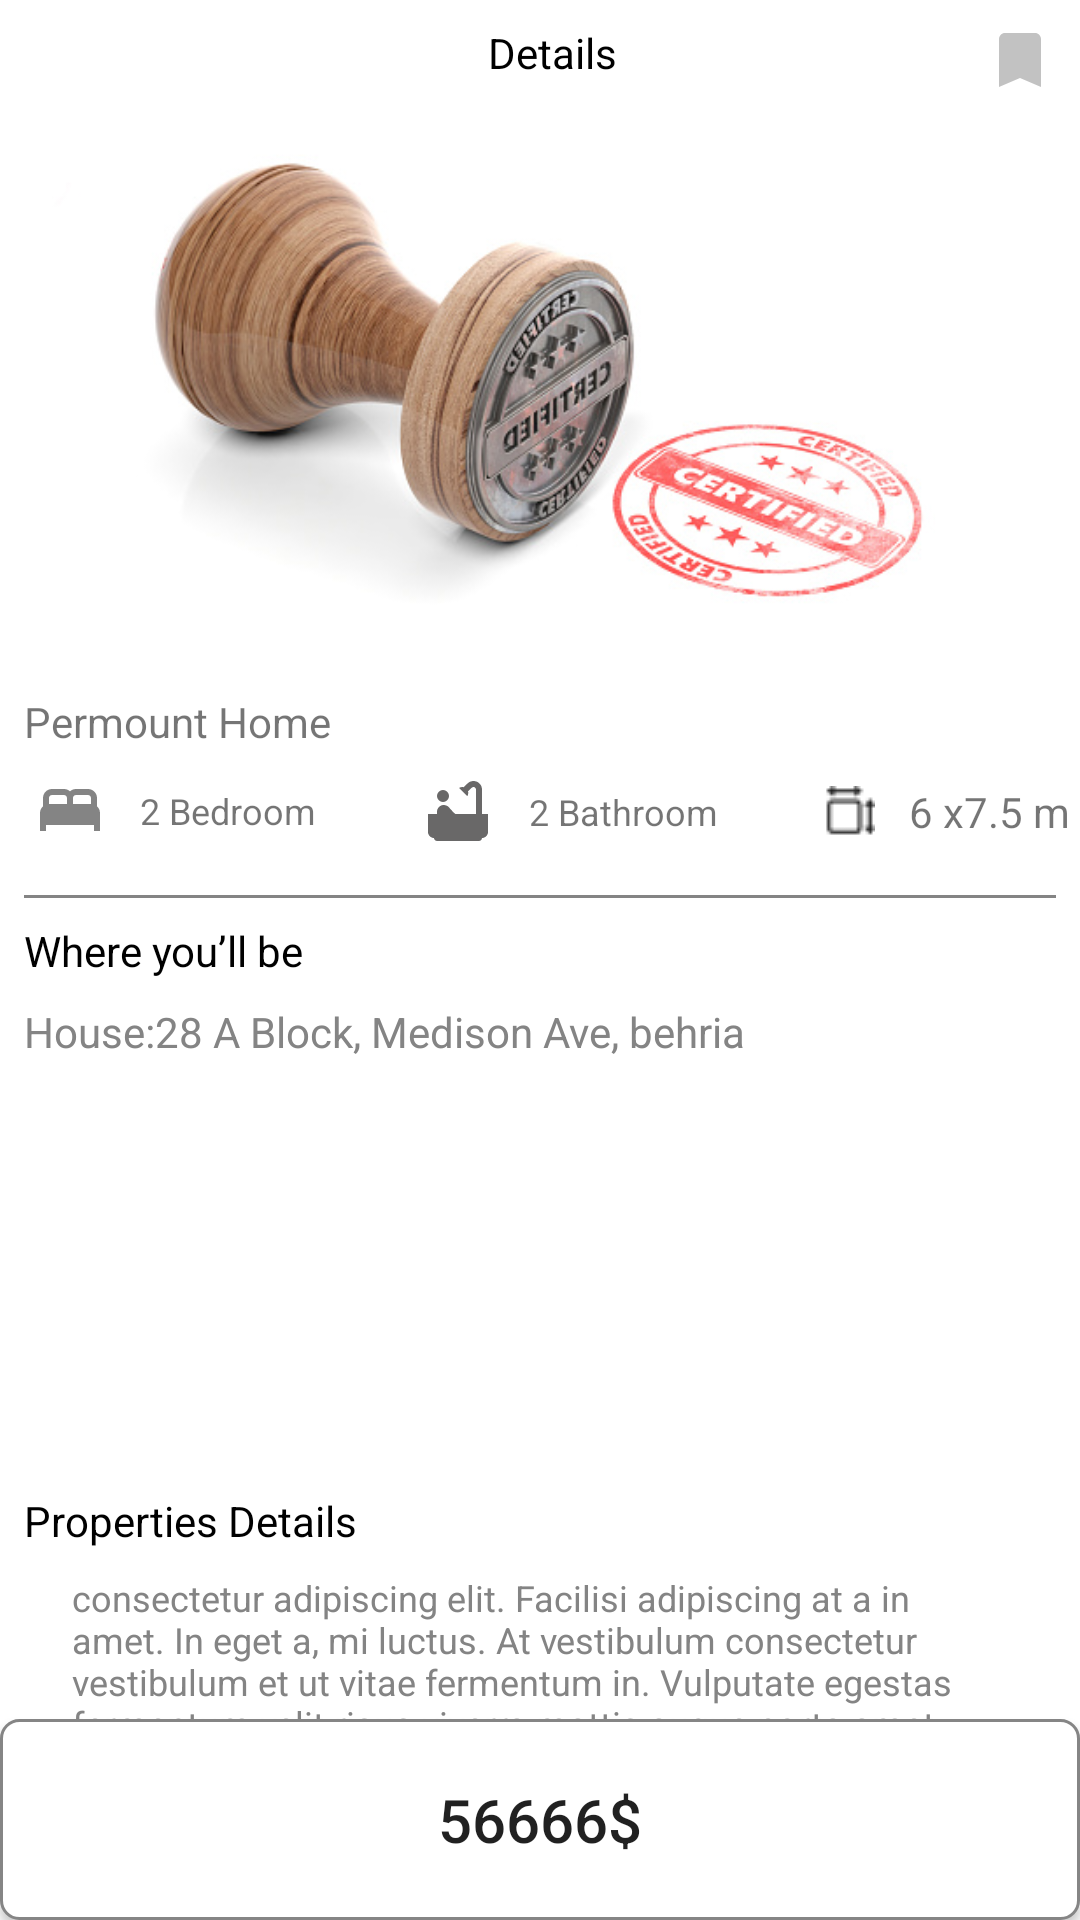

Icon bounding boxes for this 1080×1920 phone screenshot, format (x1,y1,x2,y2):
bathtub: (428,781,488,841)
bed: (40,789,100,831)
bookmark: (999,33,1041,87)
